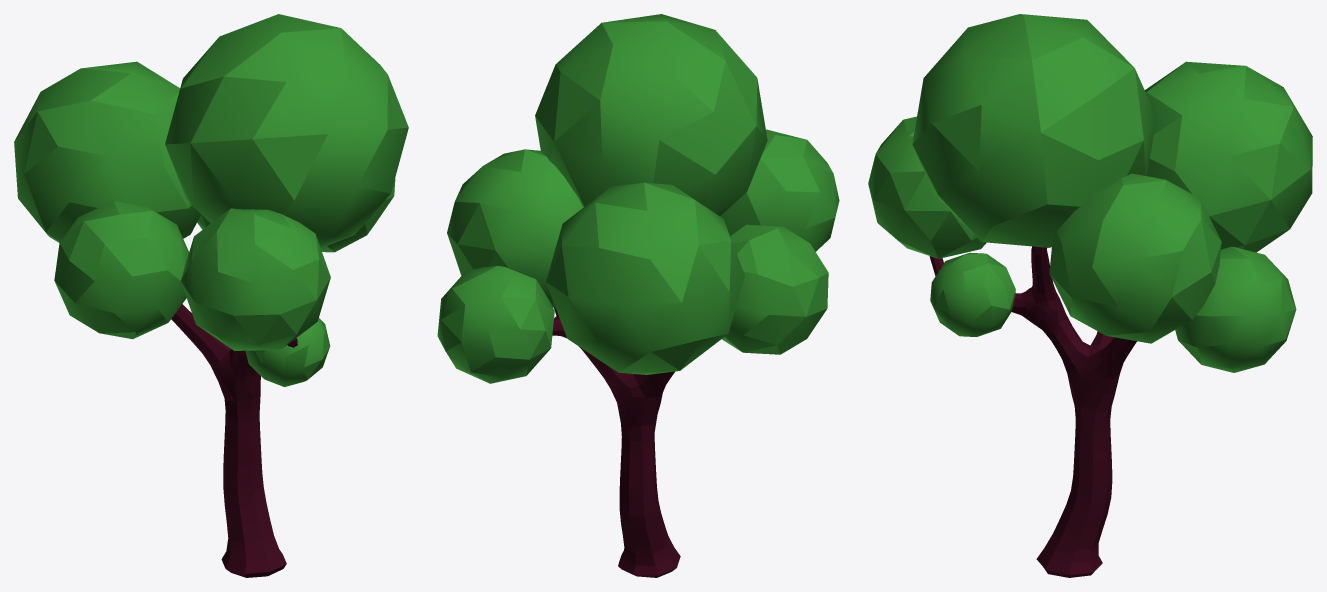
File: tree1.fbx
3 views of the same model, side by side, from view 1: azimuth 30°, elevation 25°; view 2: azimuth 150°, elevation 25°; view 3: azimuth 270°, elevation 25° (orthographic). The views are drawn at different scales.
Visible parts, largest first — view 1: Vert.002; view 2: Vert.002; view 3: Vert.002.
Boxes of the visible parts, left/top/right/bottom form: Vert.002: left=14, top=14, right=408, bottom=577; Vert.002: left=437, top=14, right=839, bottom=577; Vert.002: left=868, top=14, right=1312, bottom=577.
Size of the model in its own units: 250 by 276 by 380.
